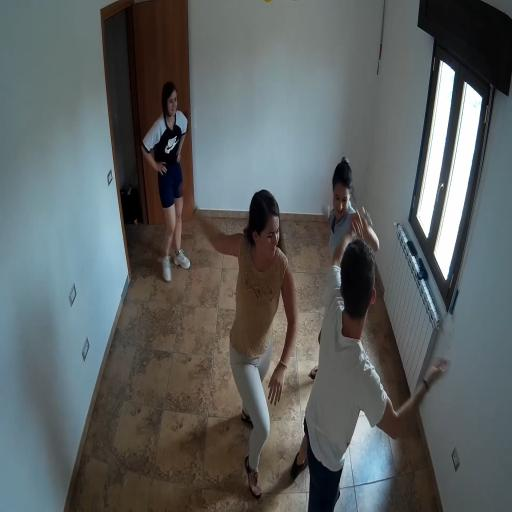violencia: (170, 146, 459, 512)
